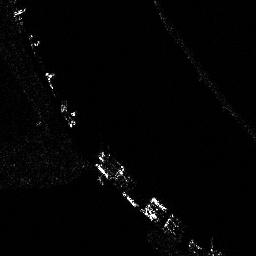ship: (58, 103, 78, 128)
